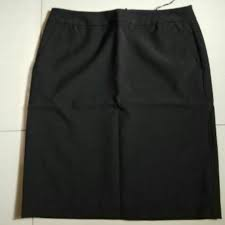F_tailored skirt: (14, 4, 224, 225)
